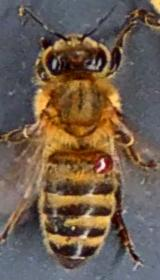varroa_mite: (86, 140, 124, 178)
